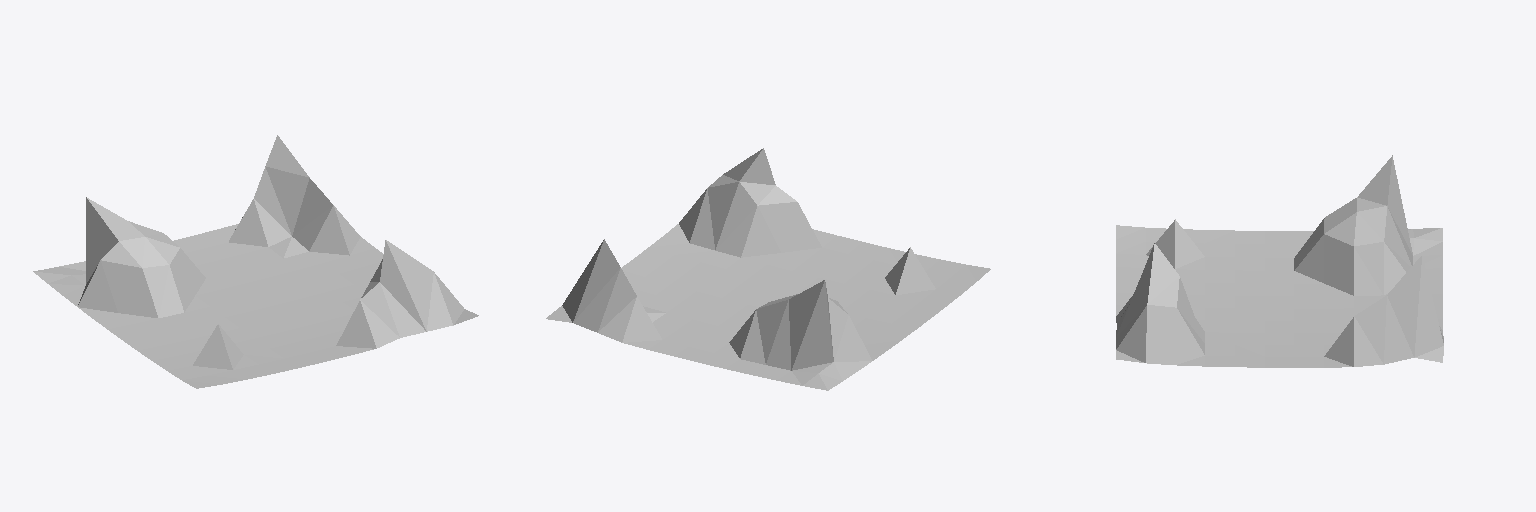
Rendered from base_map_plane.obj.
The picture shows the model from 3 angles: view 1: azimuth 30°, elevation 25°; view 2: azimuth 150°, elevation 25°; view 3: azimuth 270°, elevation 25°; orthographic projection.
Visible parts, largest first — view 1: Plane; view 2: Plane; view 3: Plane.
Part boxes in pixels (bbox=[...]): Plane: bbox=[33, 135, 478, 388]; Plane: bbox=[546, 148, 990, 390]; Plane: bbox=[1116, 155, 1443, 367].
Size of the model in its own units: 11.93 by 3.75 by 11.97.